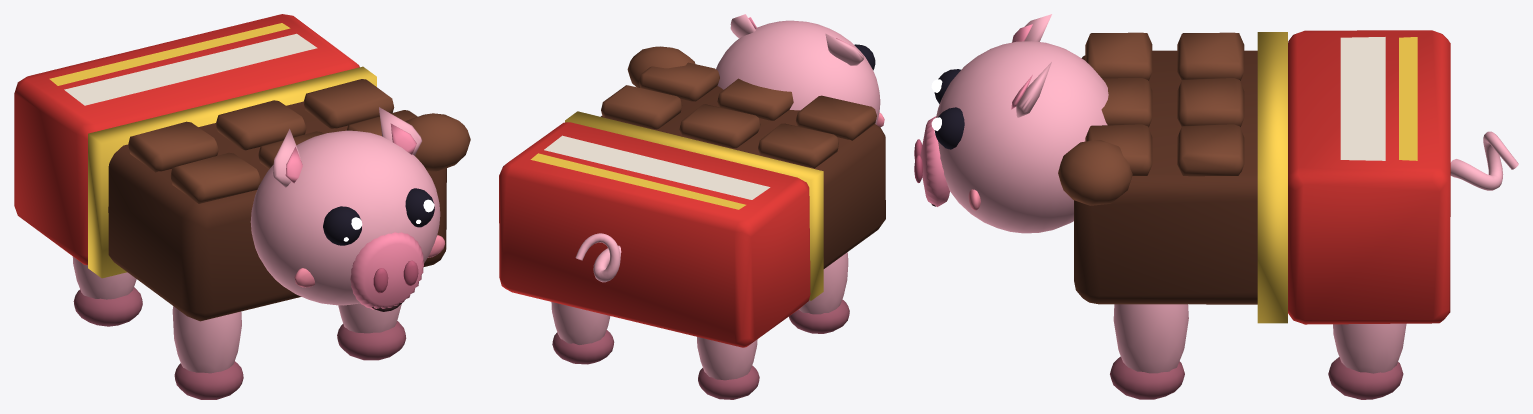
File: pilot_gris_sjoko_lav.glb
The picture shows the model from 3 angles, left to right: view 1: azimuth 30°, elevation 25°; view 2: azimuth 150°, elevation 25°; view 3: azimuth 270°, elevation 25°; orthographic projection. The views are drawn at different scales.
Parts seen in each view (by area): view 1: kropp, hode, bein_vf, bein_vb, bein_hf; view 2: kropp, hode, bein_vb, bein_hb, bein_vf, hale; view 3: kropp, hode, bein_hf, bein_hb, hale.
Part boxes in pixels (x1,y1,x2,y2): kropp: (14,14,470,321); hode: (250,107,444,311); bein_vf: (172,306,243,399); bein_vb: (72,256,142,326); bein_hf: (337,303,406,360); kropp: (499,46,885,347); hode: (716,14,884,127); bein_vb: (697,337,759,399); bein_hb: (551,302,614,364); bein_vf: (789,252,849,333); hale: (575,233,621,282); kropp: (1058,30,1450,324); hode: (914,14,1108,233); bein_hf: (1110,304,1188,399); bein_hb: (1328,323,1406,399); hale: (1450,131,1518,190).
Bounding box in the file's own units: 0.9766 × 0.9205 × 1.61.
